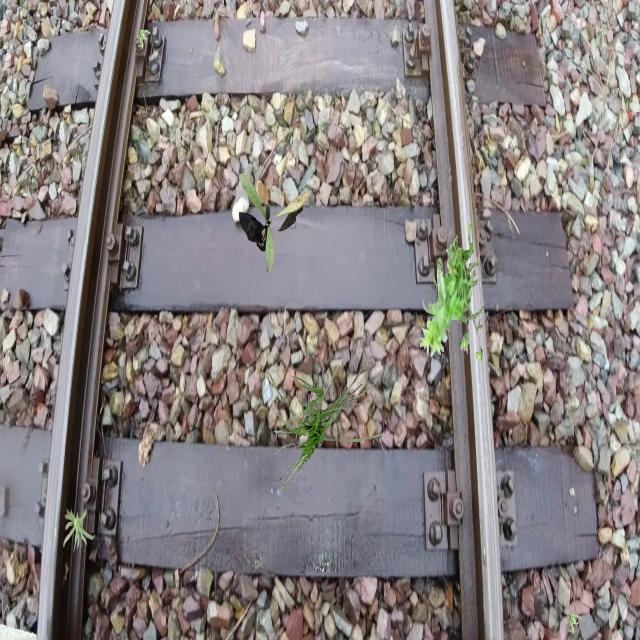Plant: (265, 341, 383, 504), (420, 222, 484, 366), (239, 173, 310, 272), (63, 508, 96, 554), (137, 29, 151, 49), (567, 614, 581, 634)
